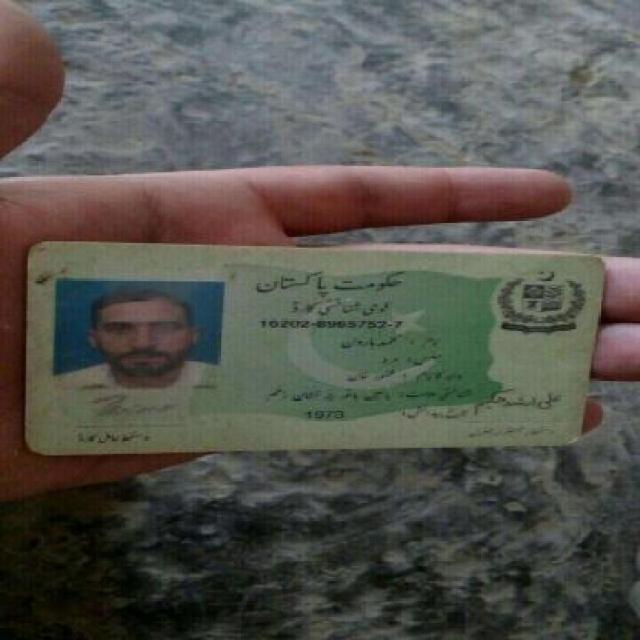Front: (12, 228, 600, 452)
